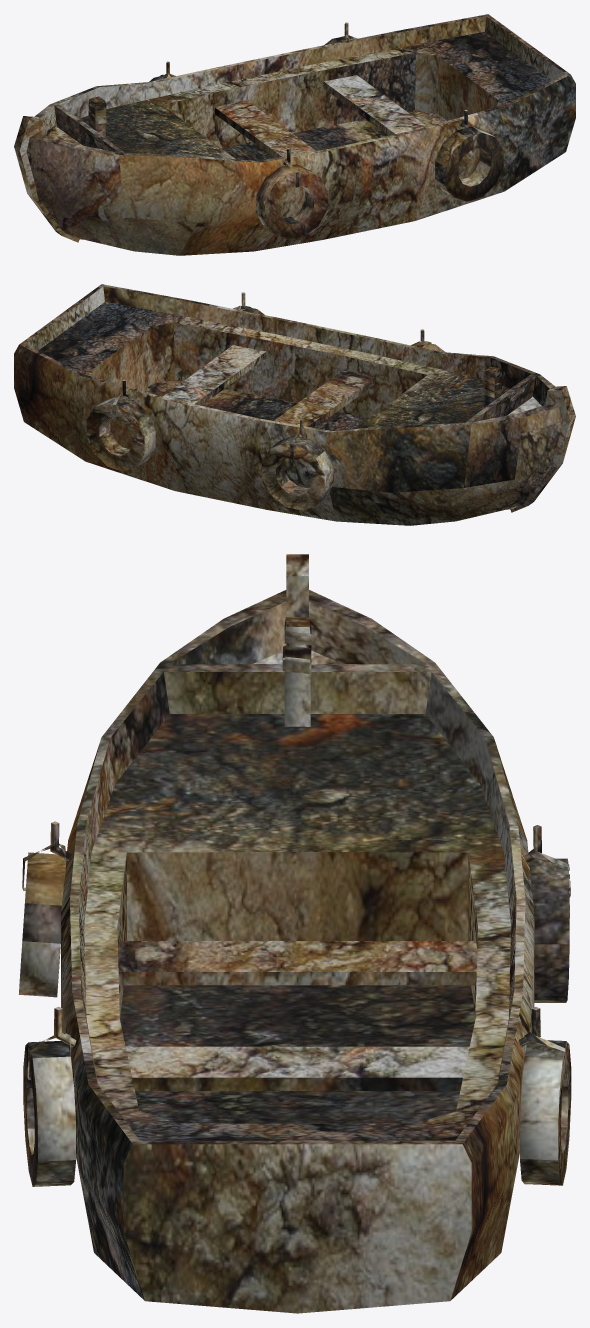
Rendered from ship.glb.
3 views of the same model, one above another, from view 1: azimuth 30°, elevation 25°; view 2: azimuth 150°, elevation 25°; view 3: azimuth 270°, elevation 25° (orthographic). The views are drawn at different scales.
Visible parts, largest first — view 1: Small_Wooden_Boat.1; view 2: Small_Wooden_Boat.1; view 3: Small_Wooden_Boat.1.
Boxes of the visible parts, box(x1,y1,x2,y2) form: Small_Wooden_Boat.1: box(14, 14, 575, 255); Small_Wooden_Boat.1: box(14, 284, 575, 525); Small_Wooden_Boat.1: box(18, 554, 571, 1313).
Bounding box in the file's own units: 1095 × 315 × 508.
1 material, 1 textured.
